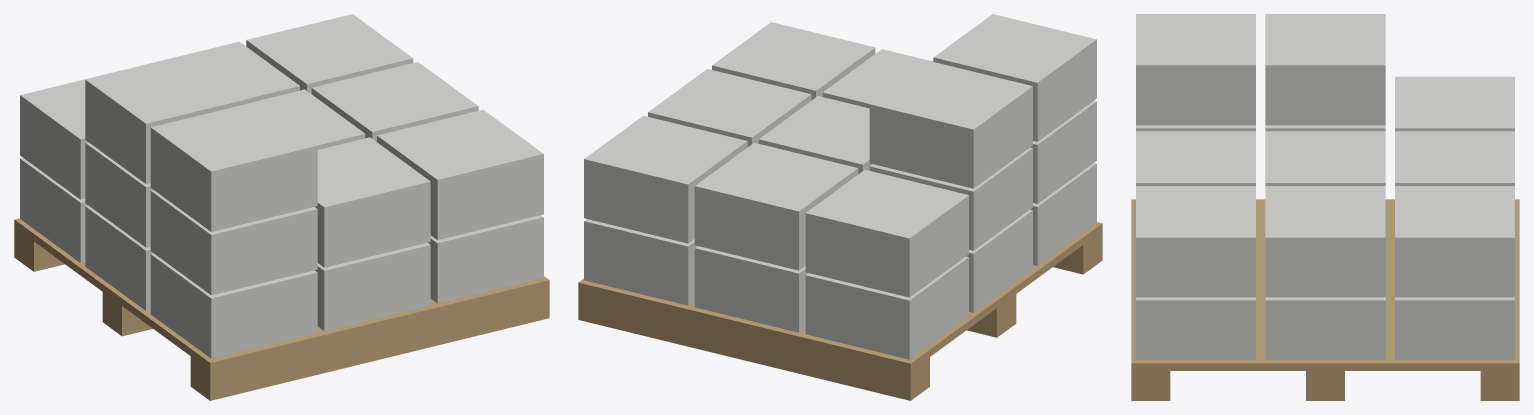
File: pallet_mp_20.glb
3 renders of one model, left to right at view 1: azimuth 30°, elevation 25°; view 2: azimuth 150°, elevation 25°; view 3: azimuth 270°, elevation 25°, orthographic. The views are drawn at different scales.
Visible parts, largest first — view 1: PalletMP; view 2: PalletMP; view 3: PalletMP.
Part boxes in pixels (x1,y1,x2,y2): PalletMP: [14, 14, 549, 400]; PalletMP: [578, 14, 1102, 400]; PalletMP: [1131, 14, 1519, 400].
Bounding box in the file's own units: 1 × 0.6386 × 1.
